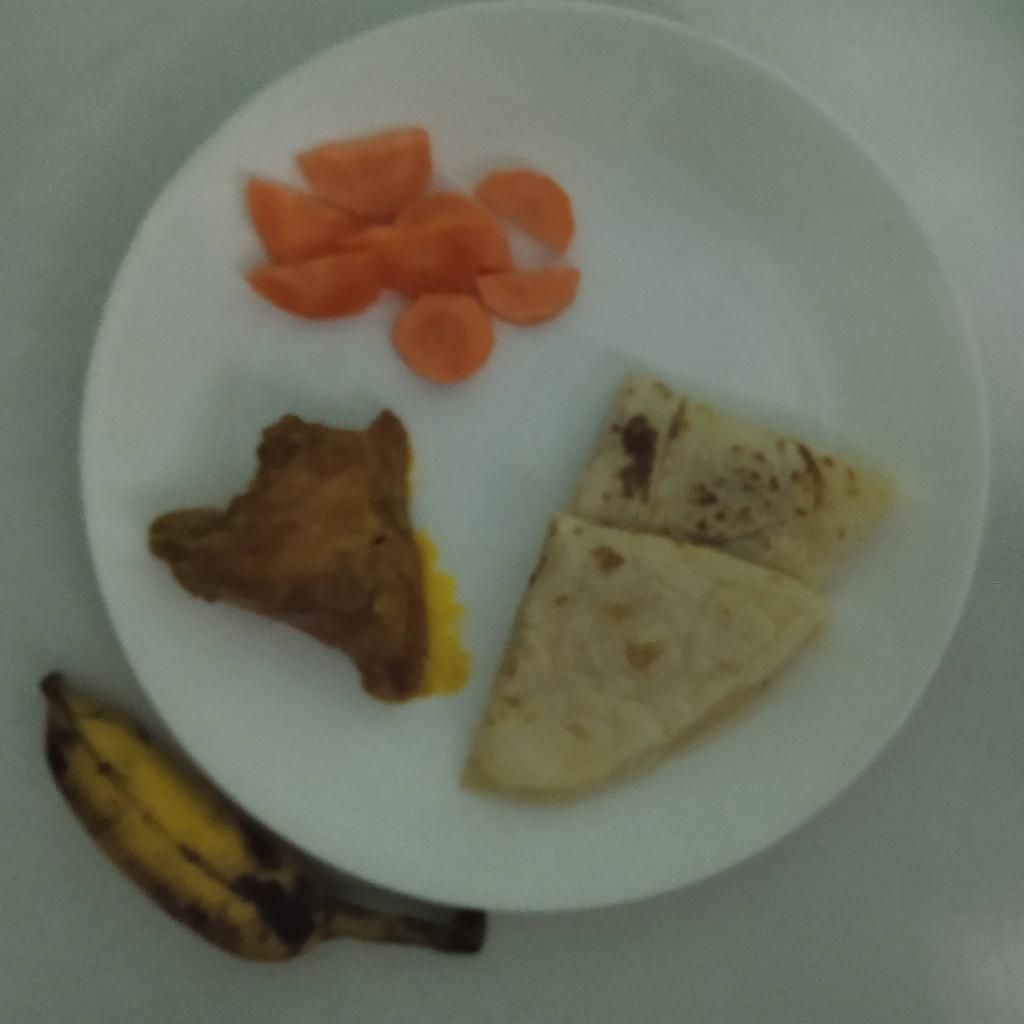banana: (40, 670, 484, 963)
carrot: (242, 121, 586, 383)
chicken: (152, 411, 427, 698)
ruti: (467, 364, 898, 789)
